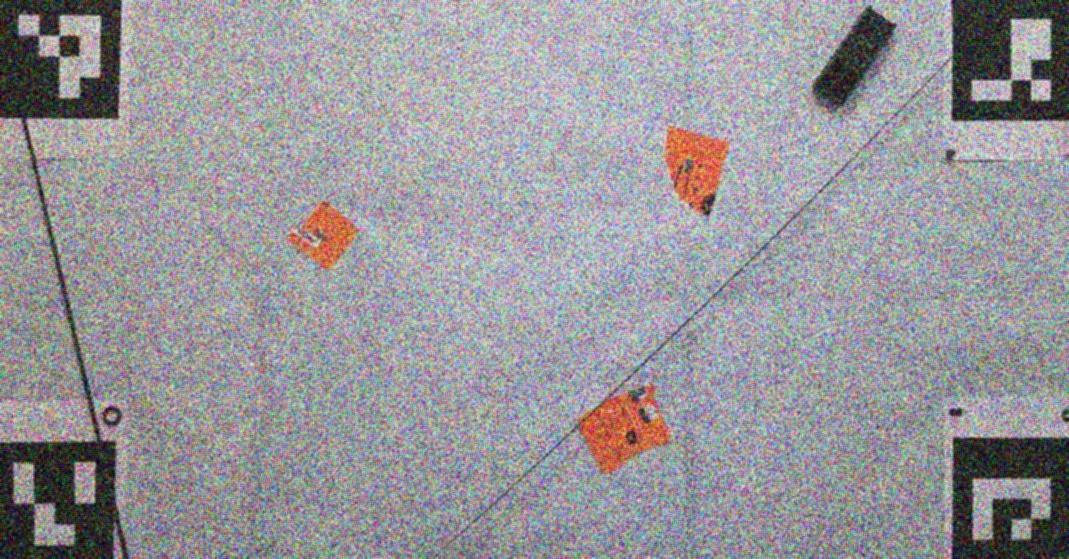obstacle: (576, 384, 674, 475), (812, 6, 896, 110), (664, 123, 728, 217), (289, 201, 360, 268)
